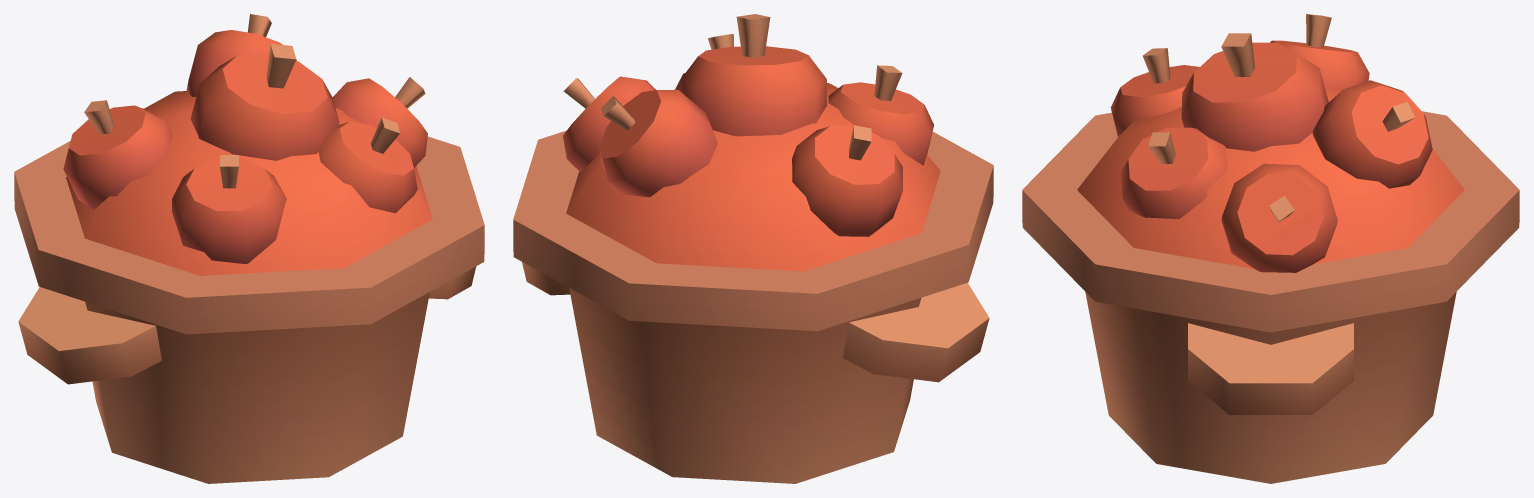
Rendered from k-mini-market-display-fruit.glb.
3 views of the same model, side by side, from view 1: azimuth 30°, elevation 25°; view 2: azimuth 150°, elevation 25°; view 3: azimuth 270°, elevation 25° (orthographic). The views are drawn at different scales.
Parts seen in each view (by area): view 1: display-fruit; view 2: display-fruit; view 3: display-fruit.
Part boxes in pixels (left/top/right/bottom): display-fruit: left=14, top=14, right=484, bottom=483; display-fruit: left=513, top=14, right=993, bottom=483; display-fruit: left=1022, top=14, right=1519, bottom=483.
Size of the model in its own units: 0.6 by 0.516 by 0.6.
Materials: 1 (1 with a texture image).
